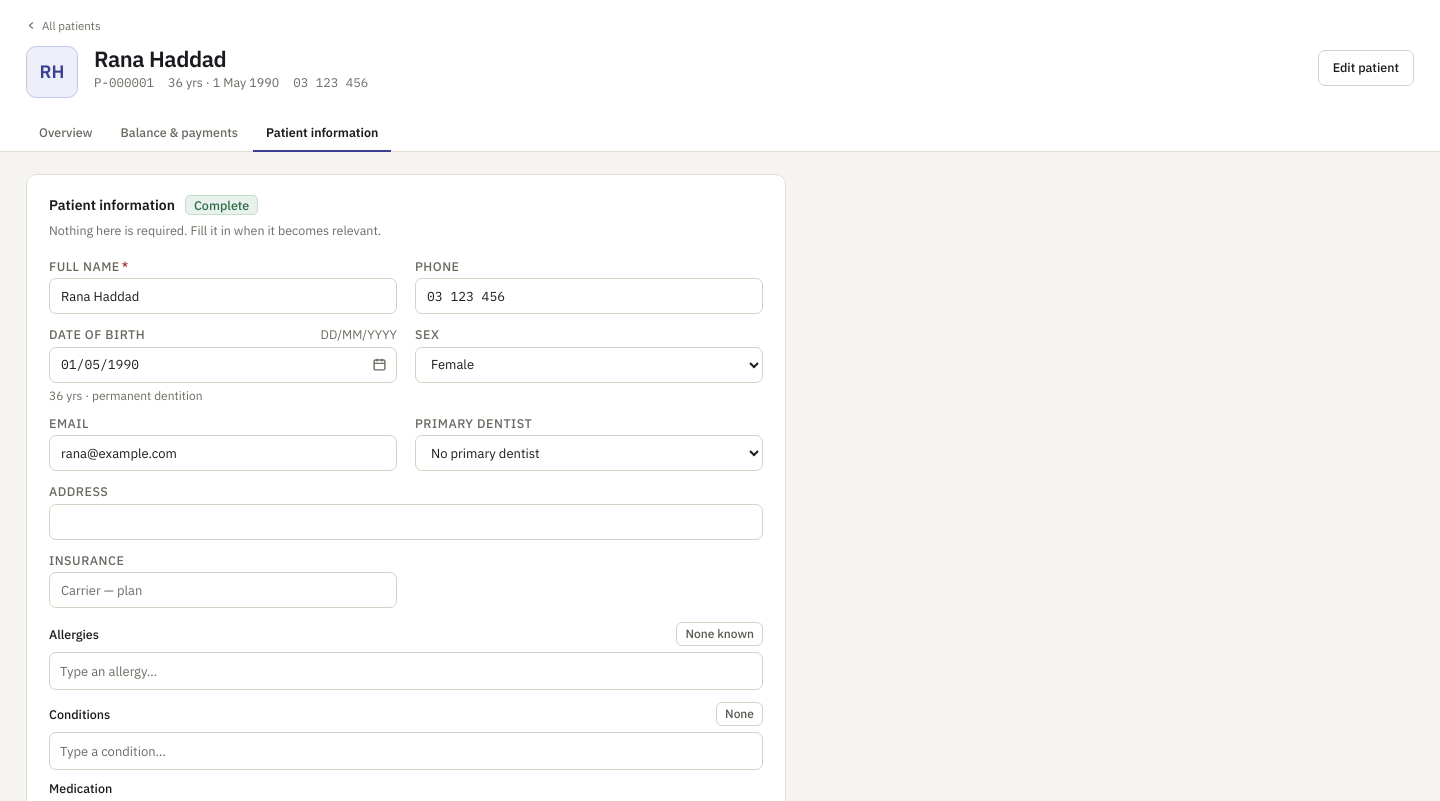
Scenario: InformationTab › puts a rejected field back on the form rather than failing the save
Expected: the text "Nothing here is required. Fill it in when it becomes relevant." is shown, [49,222,381,238]
Type "Allianz" into the field labelled "Insurance" at (223, 590), box [49,572,397,608]
(page scrolled)
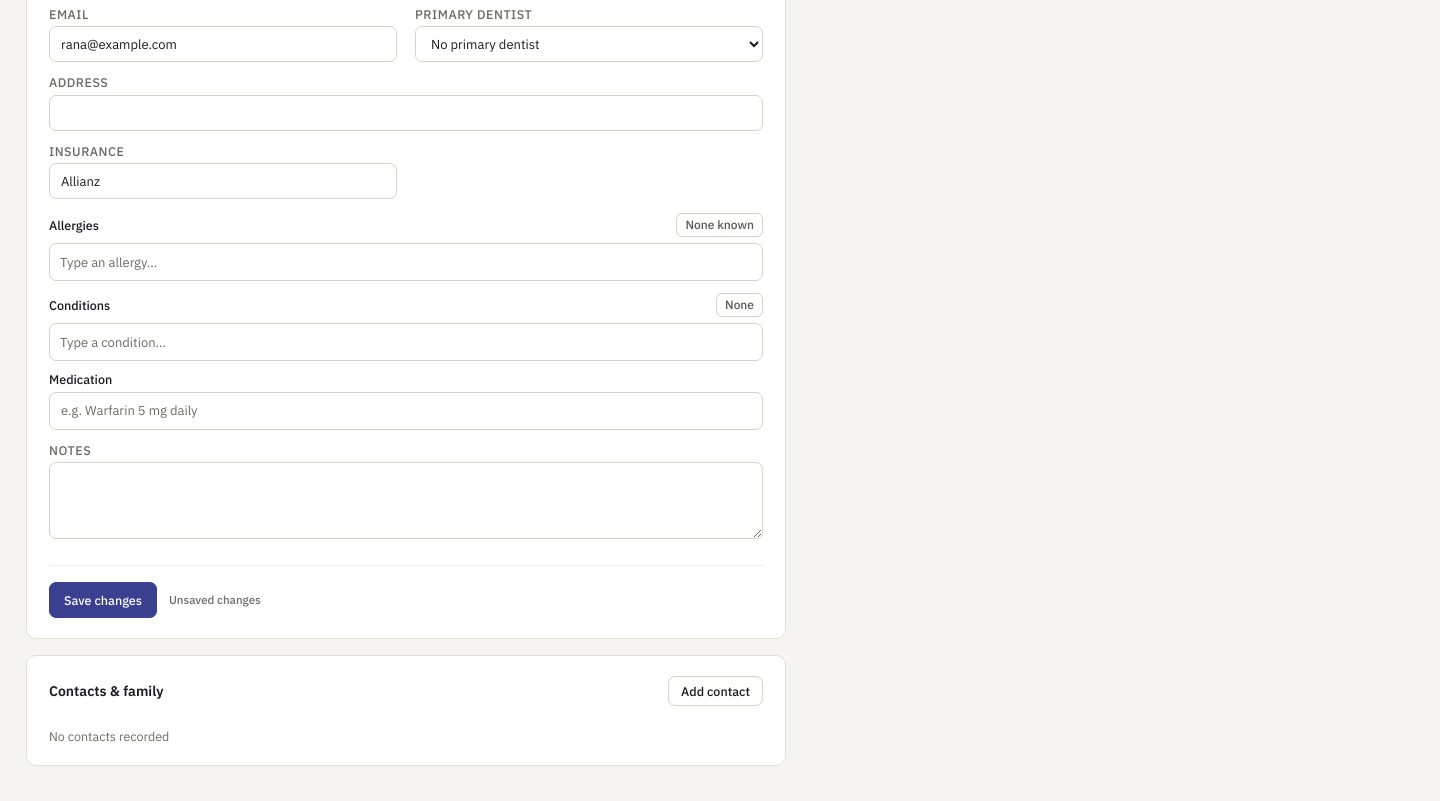
Click the button "Save changes" at (103, 600), box [49,582,157,618]
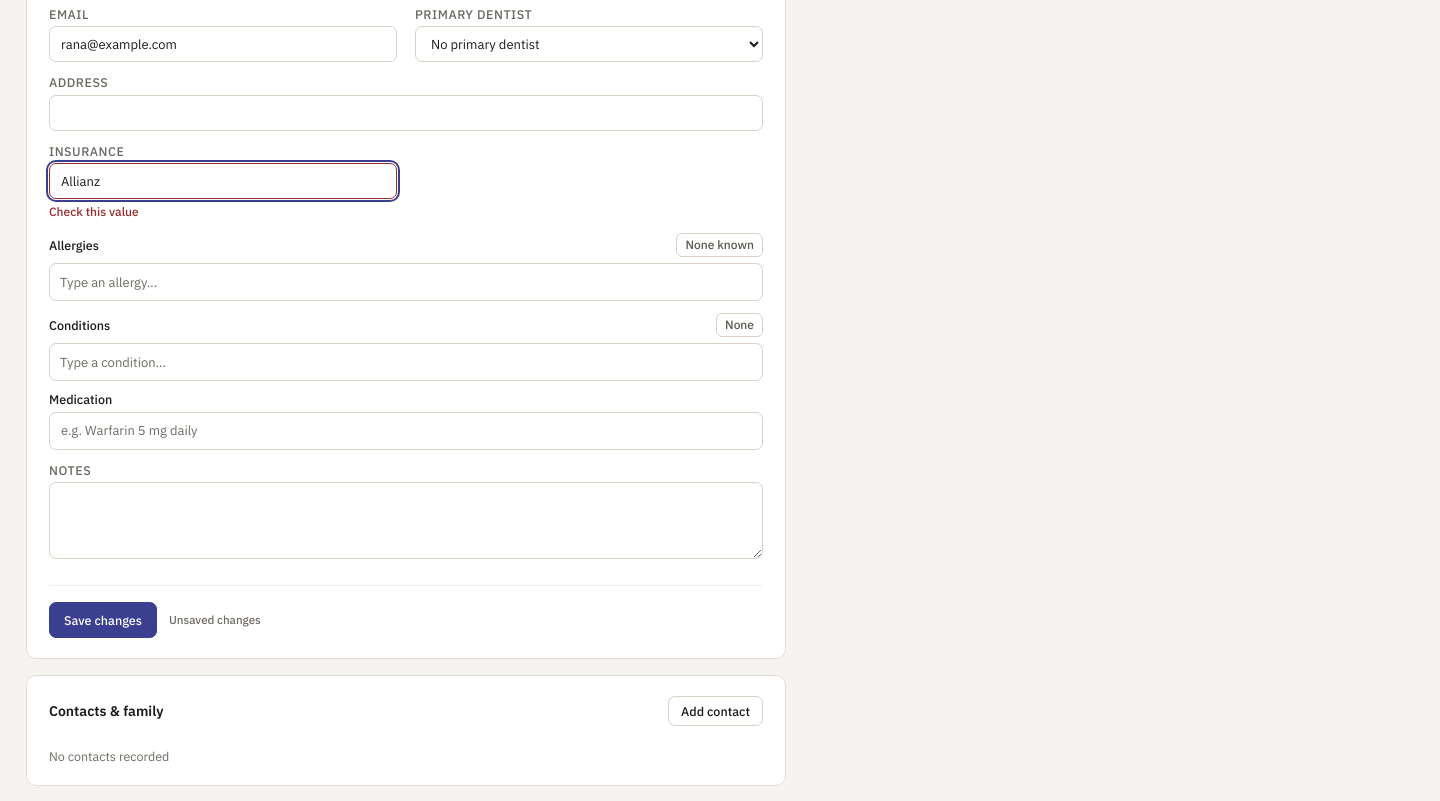
Expected: the text "Unsaved changes" is shown, [169,614,261,626]
Expected: the text "Check this value" is shown, [49,204,139,219]
